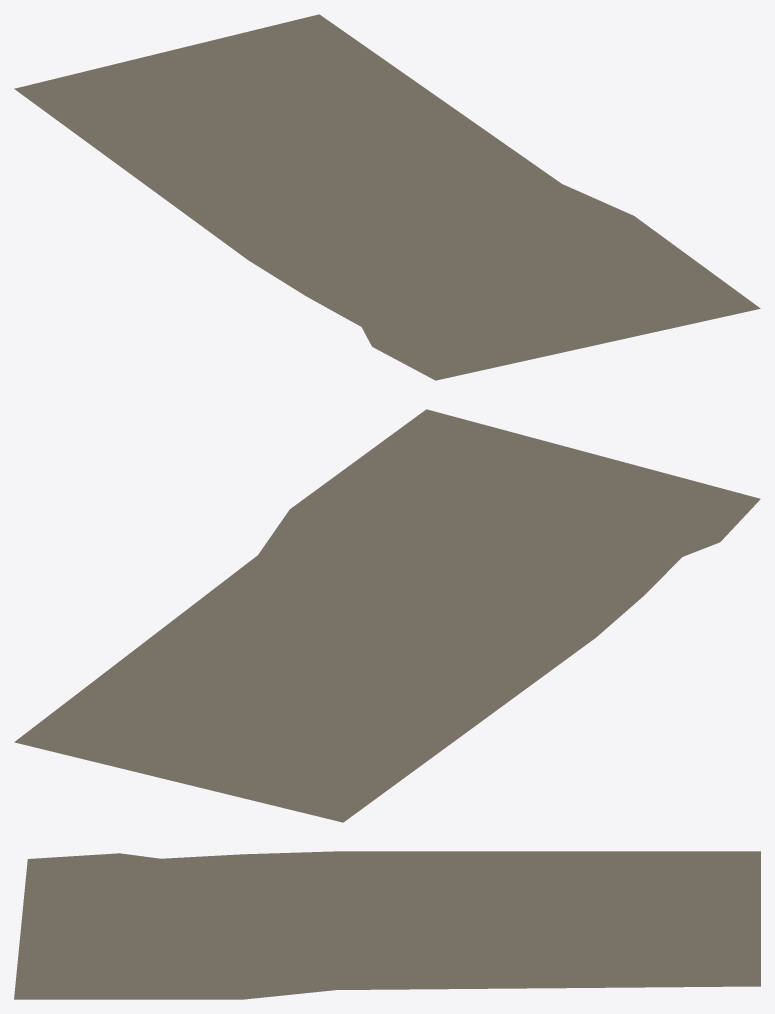
Rendered from Water_01.fbx.
3 views of the same model, one above another, from view 1: azimuth 30°, elevation 25°; view 2: azimuth 150°, elevation 25°; view 3: azimuth 270°, elevation 25° (orthographic). The views are drawn at different scales.
Parts seen in each view (by area): view 1: pPlane15; view 2: pPlane15; view 3: pPlane15.
Part boxes in pixels (bbox=[...]): pPlane15: bbox=[14, 14, 760, 380]; pPlane15: bbox=[14, 409, 760, 822]; pPlane15: bbox=[14, 851, 760, 999].
Size of the model in its own units: 49.53 by 0 by 106.
